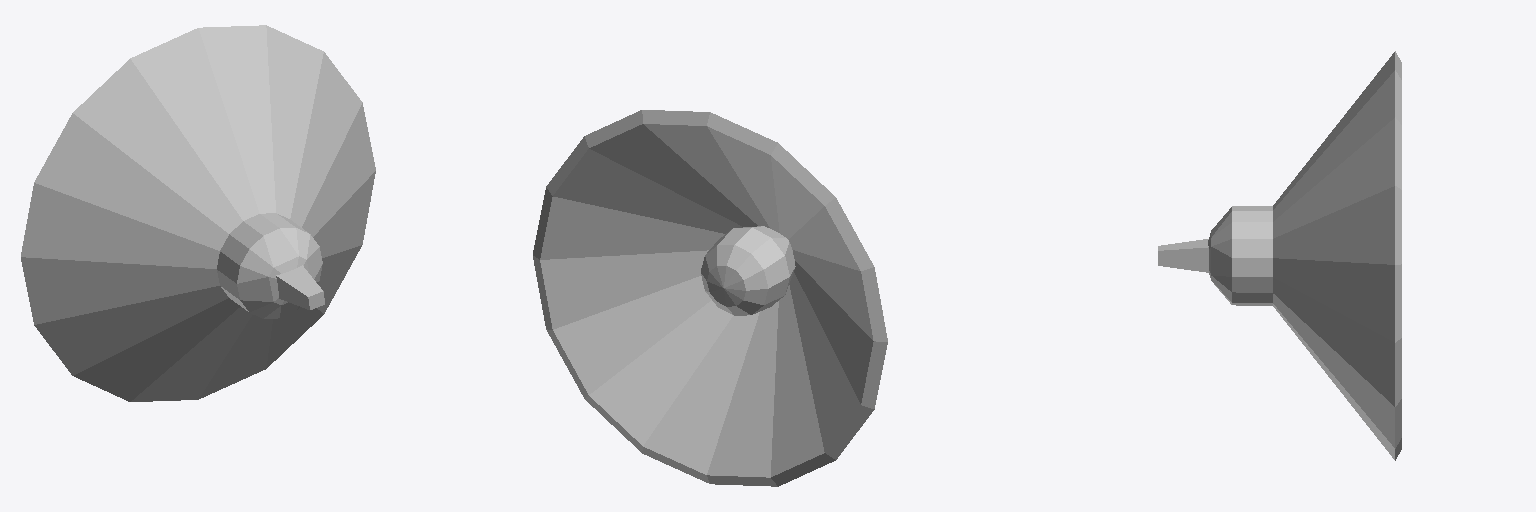
File: lamp001c.obj
3 renders of one model, left to right at view 1: azimuth 30°, elevation 25°; view 2: azimuth 150°, elevation 25°; view 3: azimuth 270°, elevation 25°, orthographic.
Visible parts, largest first — view 1: prison_lamp001c; view 2: prison_lamp001c; view 3: prison_lamp001c.
Boxes of the visible parts, box(x1,y1,x2,y2) form: prison_lamp001c: box(21, 25, 375, 401); prison_lamp001c: box(533, 110, 887, 486); prison_lamp001c: box(1158, 51, 1401, 460).
Size of the model in its own units: 19.79 by 19.79 by 11.79.